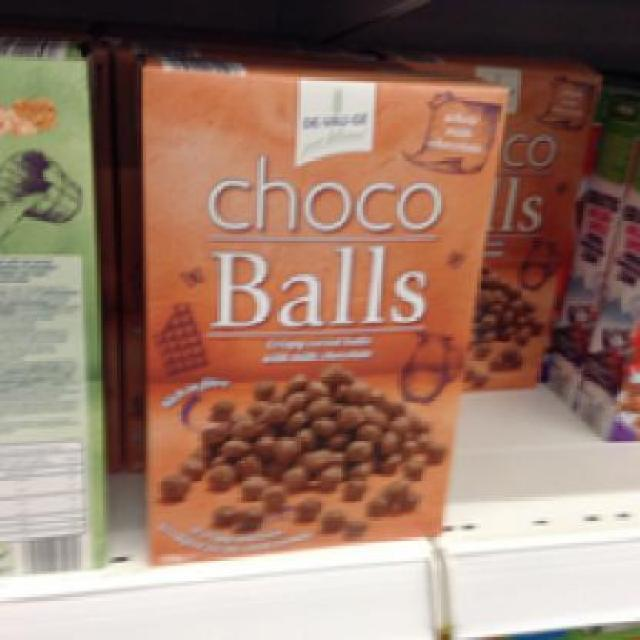Cereal: (140, 37, 509, 563)
